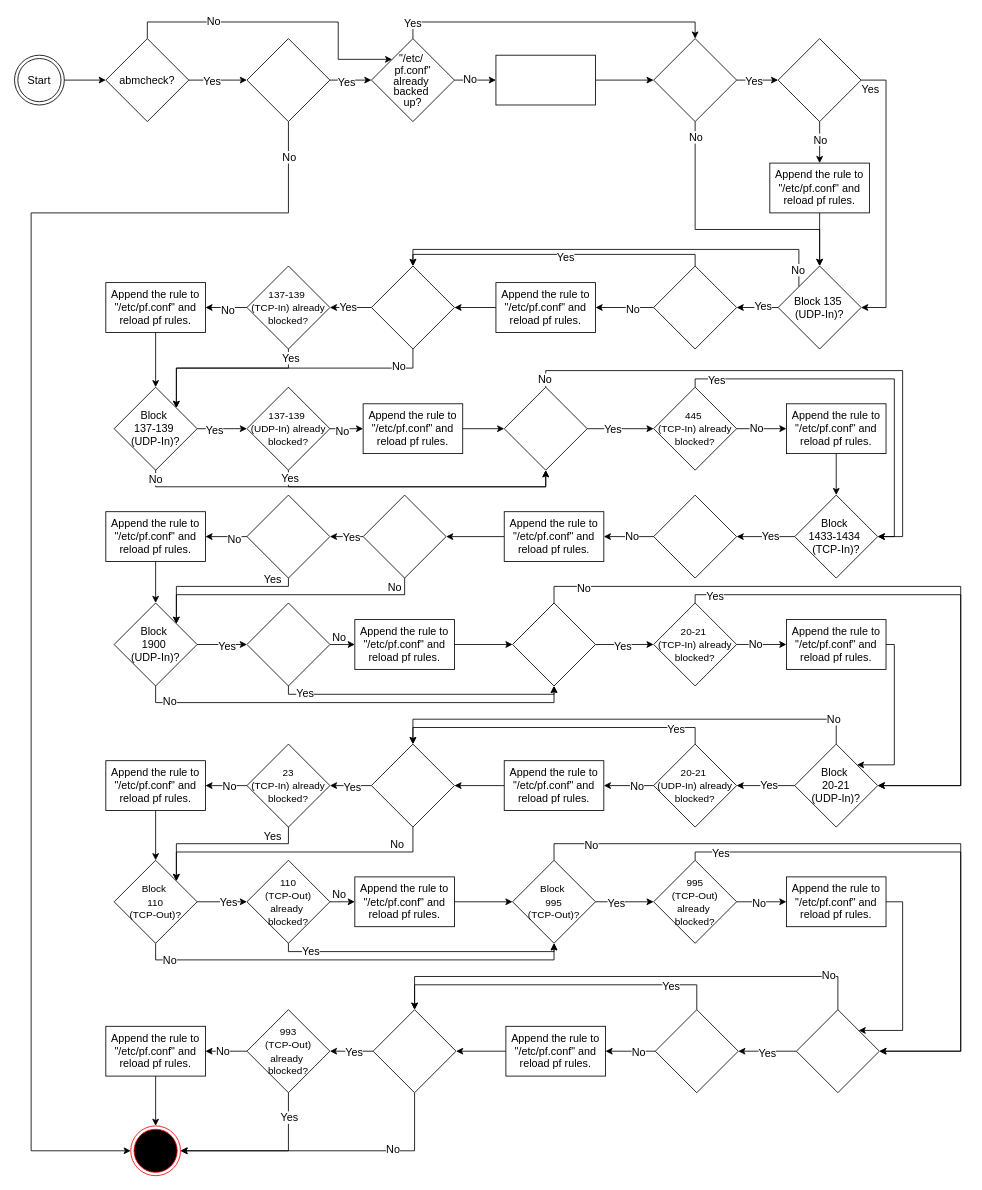
The diagram is 982 pixels wide and 1190 high, and some of its shapes have lost their labels. Each missing label, with the centre of its shape:
135 (TCP-In) already blocked?: point 819,80
135 (UDP-In) already blocked?: point 695,307
143 (TCP-Out) already blocked?: point 696,1051
1433-1434 (TCP-In) already blocked?: point 695,536
1433-1434 (UDP-In) already blocked?: point 288,536
1900 (UDP-In) already blocked?: point 288,644
Block 135 (TCP-In)?: point 695,80
Block 137-139 (TCP-In)?: point 412,307
Block 143 (TCP-Out)?: point 837,1051
Block 1433-1434 (UDP-In)?: point 404,536
Block 20-21 (TCP-In)?: point 554,644
Block 23 (TCP-In)?: point 412,785
Block 445 (TCP-In)?: point 545,428
Block 993 (TCP-Out)?: point 414,1051
Create backup "/etc/pf.cong.backup": point 545,79
End: point 155,1150
Is this ABM DEP device?: point 288,80
